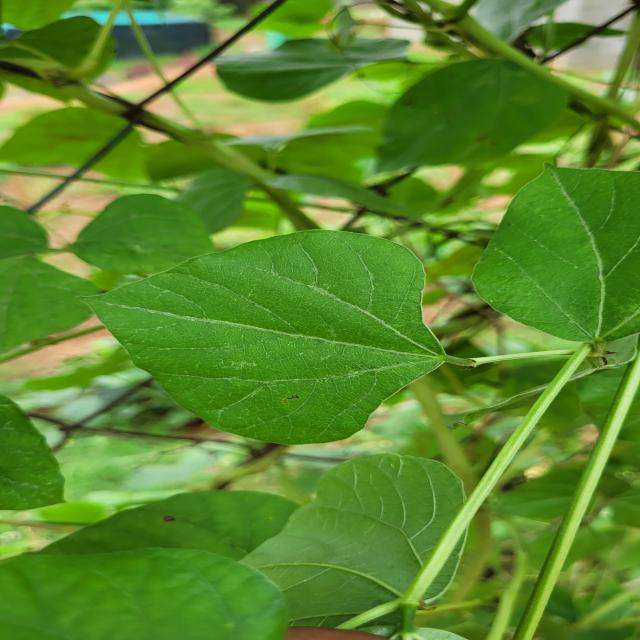Dolicos bean_healthy: (0, 457, 479, 640), (82, 226, 456, 439), (364, 28, 574, 168)
